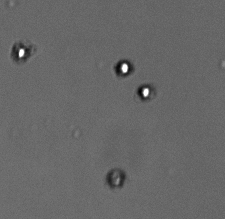Dead Cell: (105, 165, 128, 190)
Living Cell: (10, 40, 33, 63), (136, 80, 157, 102), (114, 58, 136, 78)
